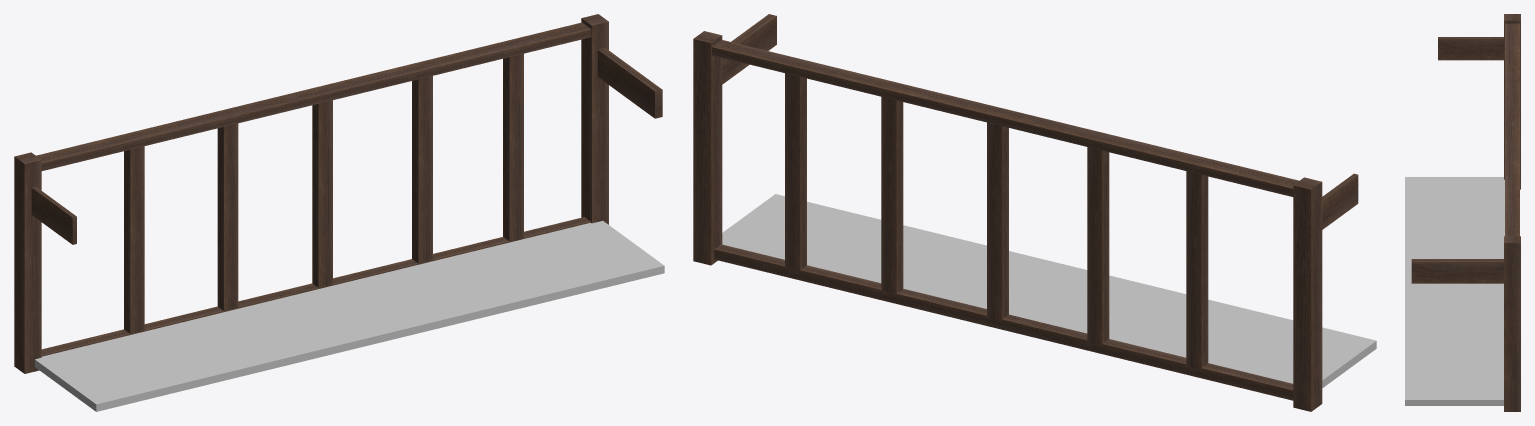
Rendered from windowflameout02b.fbx.
3 views of the same model, side by side, from view 1: azimuth 30°, elevation 25°; view 2: azimuth 150°, elevation 25°; view 3: azimuth 270°, elevation 25° (orthographic). The views are drawn at different scales.
Parts seen in each view (by area): view 1: windowflameout02b; view 2: windowflameout02b; view 3: windowflameout02b.
Boxes of the visible parts, bbox=[...] form: windowflameout02b: bbox=[14, 14, 664, 411]; windowflameout02b: bbox=[693, 14, 1376, 411]; windowflameout02b: bbox=[1405, 14, 1520, 411].
Size of the model in its own units: 171 by 58.9 by 36.57.
